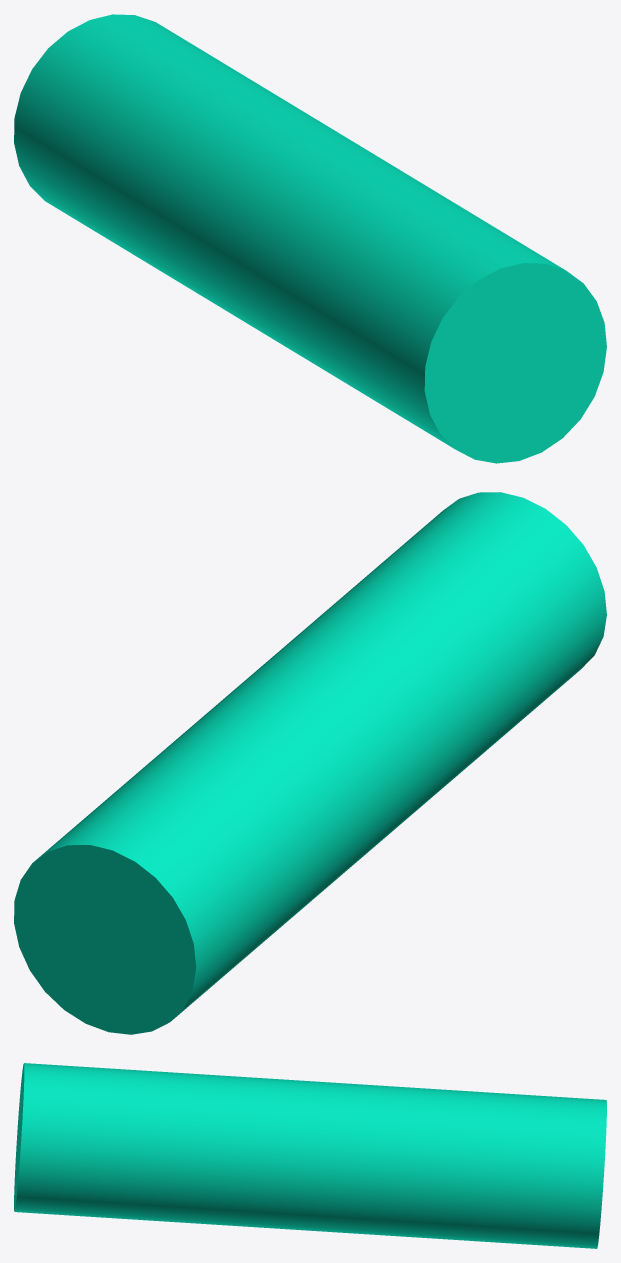
The picture shows the model from 3 angles, top to bottom: view 1: azimuth 30°, elevation 25°; view 2: azimuth 150°, elevation 25°; view 3: azimuth 270°, elevation 25°; orthographic projection. The views are drawn at different scales.
Visible parts, largest first — view 1: 0C6E641F3DC18749666DF3C59C03E7384C05AFCA|:|8CECCEC21AC6_56ec; view 2: 0C6E641F3DC18749666DF3C59C03E7384C05AFCA|:|8CECCEC21AC6_56ec; view 3: 0C6E641F3DC18749666DF3C59C03E7384C05AFCA|:|8CECCEC21AC6_56ec.
Boxes of the visible parts, x1,y1,x2,y2 form: 0C6E641F3DC18749666DF3C59C03E7384C05AFCA|:|8CECCEC21AC6_56ec: (14,14,606,463); 0C6E641F3DC18749666DF3C59C03E7384C05AFCA|:|8CECCEC21AC6_56ec: (14,492,606,1034); 0C6E641F3DC18749666DF3C59C03E7384C05AFCA|:|8CECCEC21AC6_56ec: (14,1063,606,1248).
Size of the model in its own units: 20.96 by 26.59 by 83.26.
